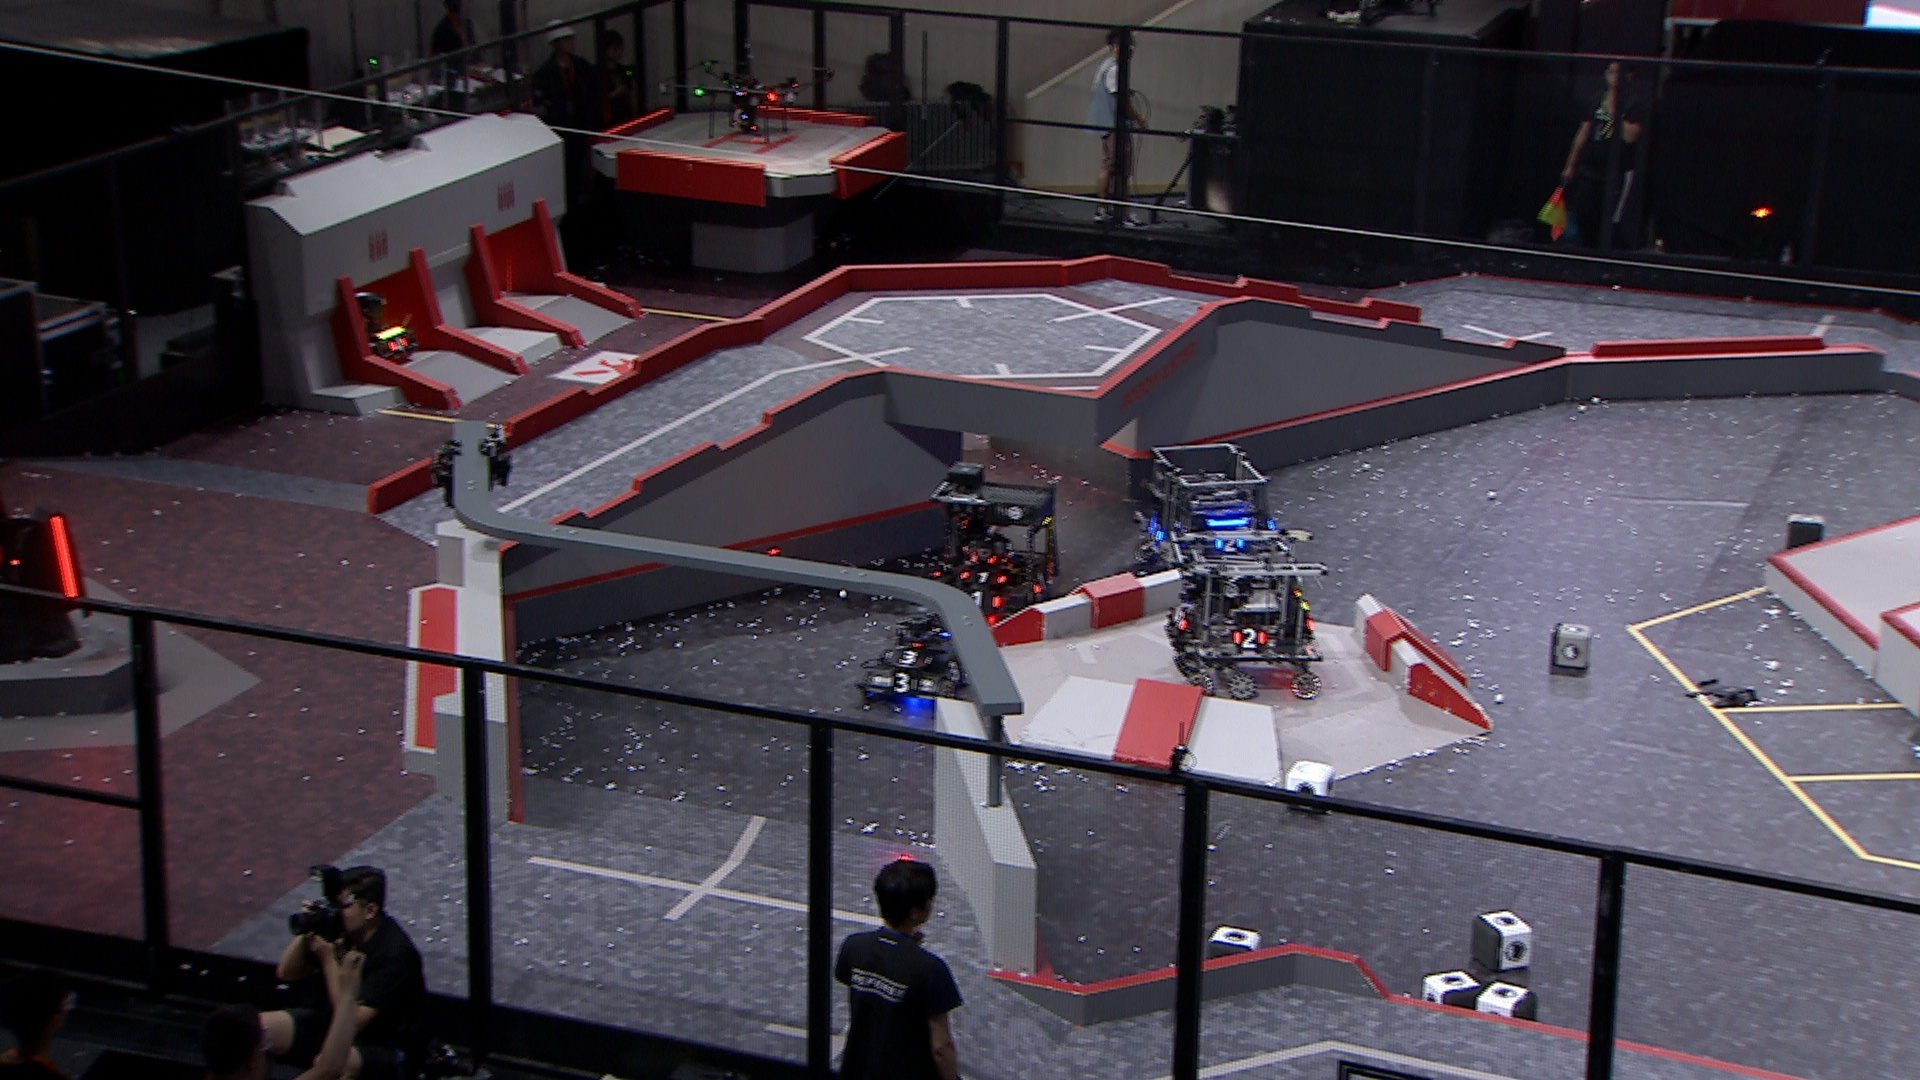armor: (44, 514, 83, 603), (956, 567, 1011, 585), (884, 647, 931, 666), (1232, 626, 1266, 651), (967, 589, 1002, 613), (887, 671, 918, 698), (942, 657, 964, 684), (1031, 568, 1054, 593), (1143, 520, 1166, 542), (1171, 608, 1192, 632), (386, 335, 410, 356)
car: (1159, 526, 1327, 699), (924, 477, 1065, 632), (1129, 440, 1269, 584), (855, 607, 978, 712), (324, 291, 422, 372)
watcher: (433, 427, 514, 510)
